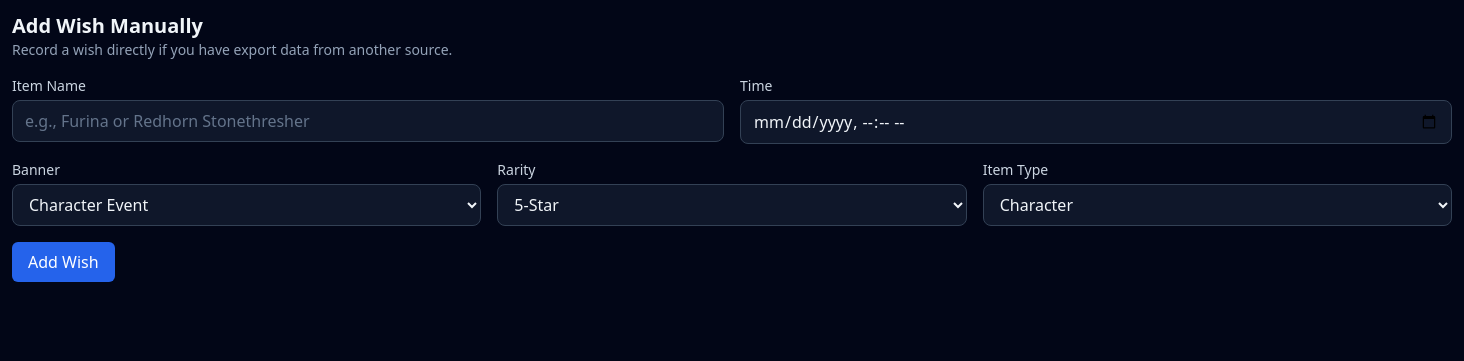
Test: WishManualEntry › saves a manual wish to the repository
Type "Testing Wish" into the field labelled "Item Name" at (368, 121), box [12,100,724,142]
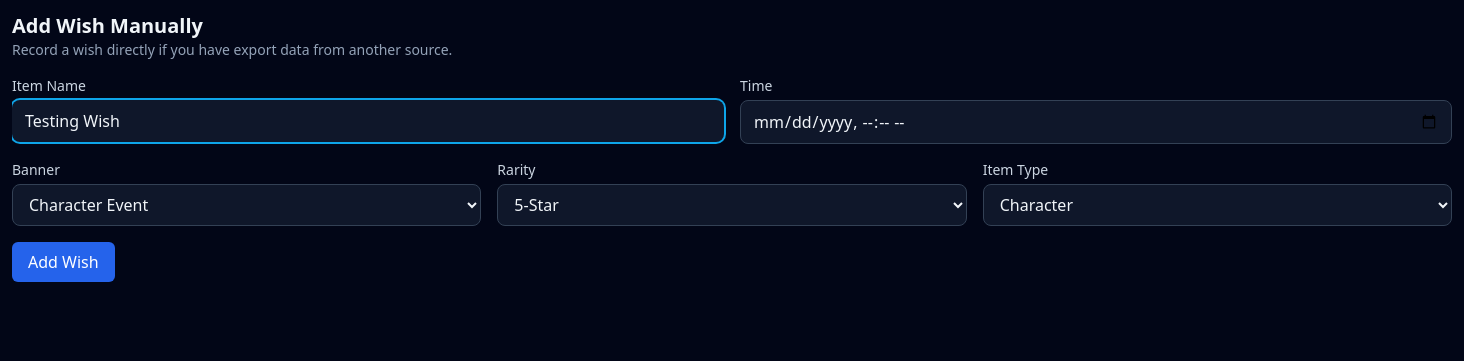
Type "2024-02-01T12:00" into the field labelled "Time" at (1096, 122), box [740,100,1452,144]
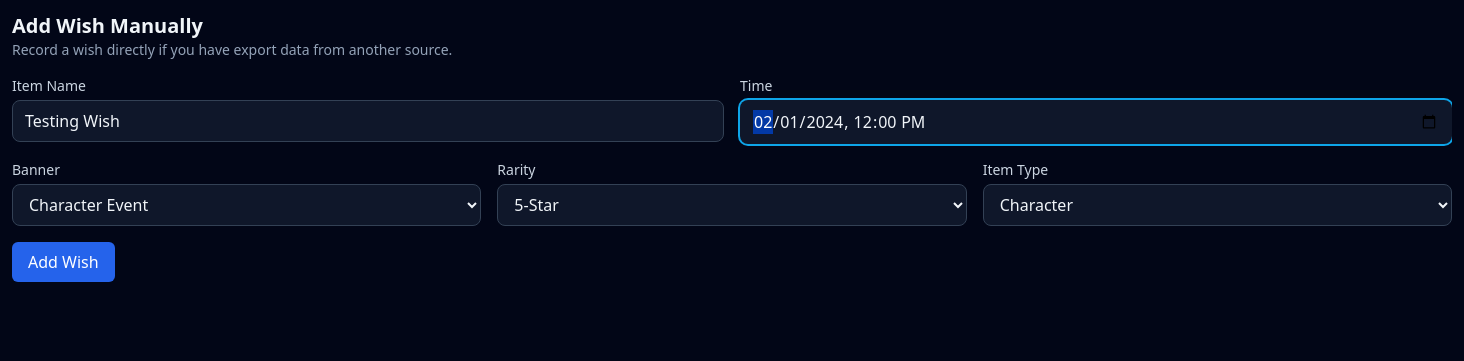
Select "4-Star" in the dropdown labelled "Rarity" at (732, 205), box [497,184,967,226]
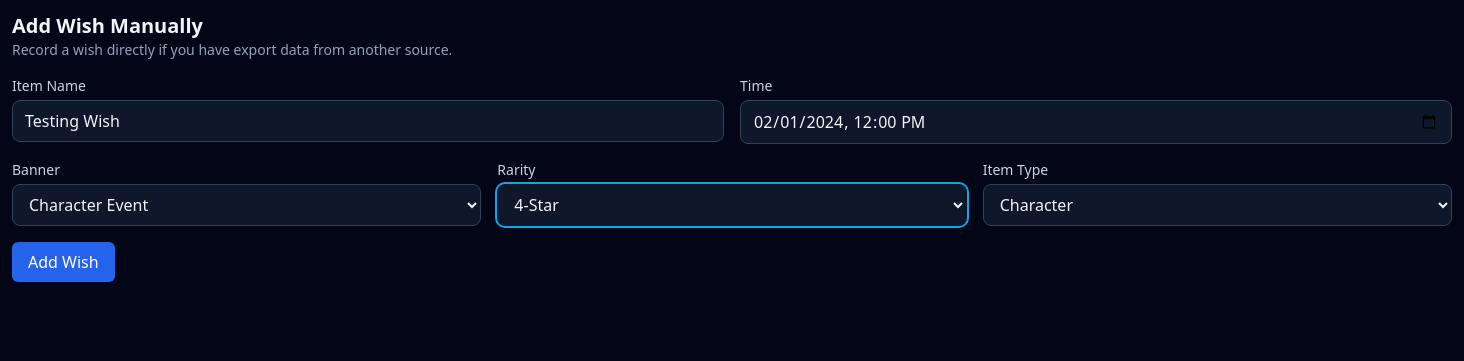
Select "Weapon" in the dropdown labelled "Item Type" at (1217, 205), box [983,184,1452,226]
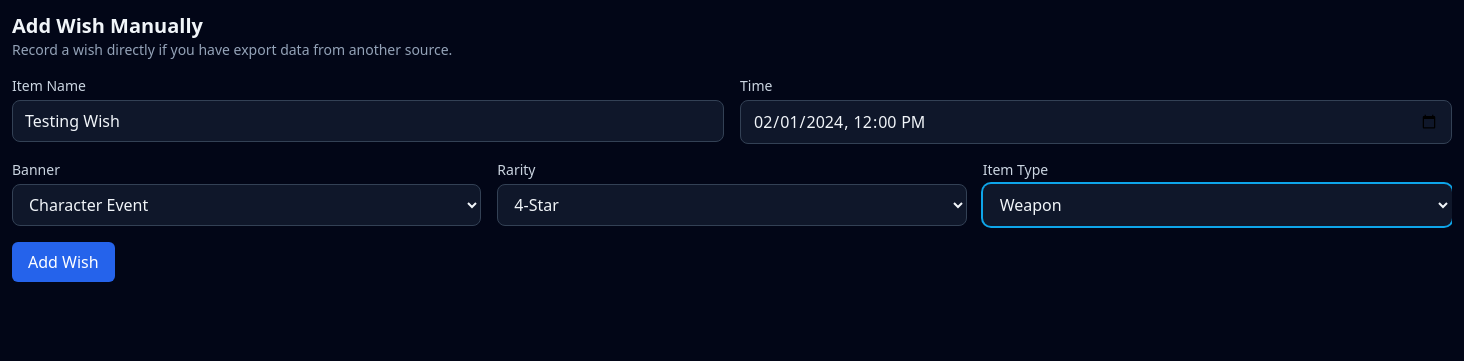
Click the button "Add Wish" at (63, 262), box [12,242,115,282]
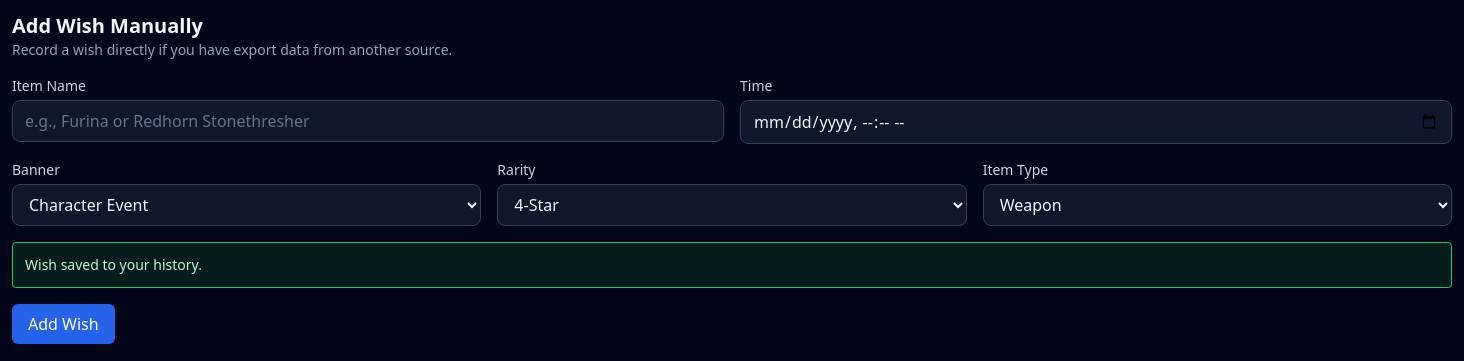
Check: the text "Wish saved to your history." is shown, box [12,242,1452,288]
